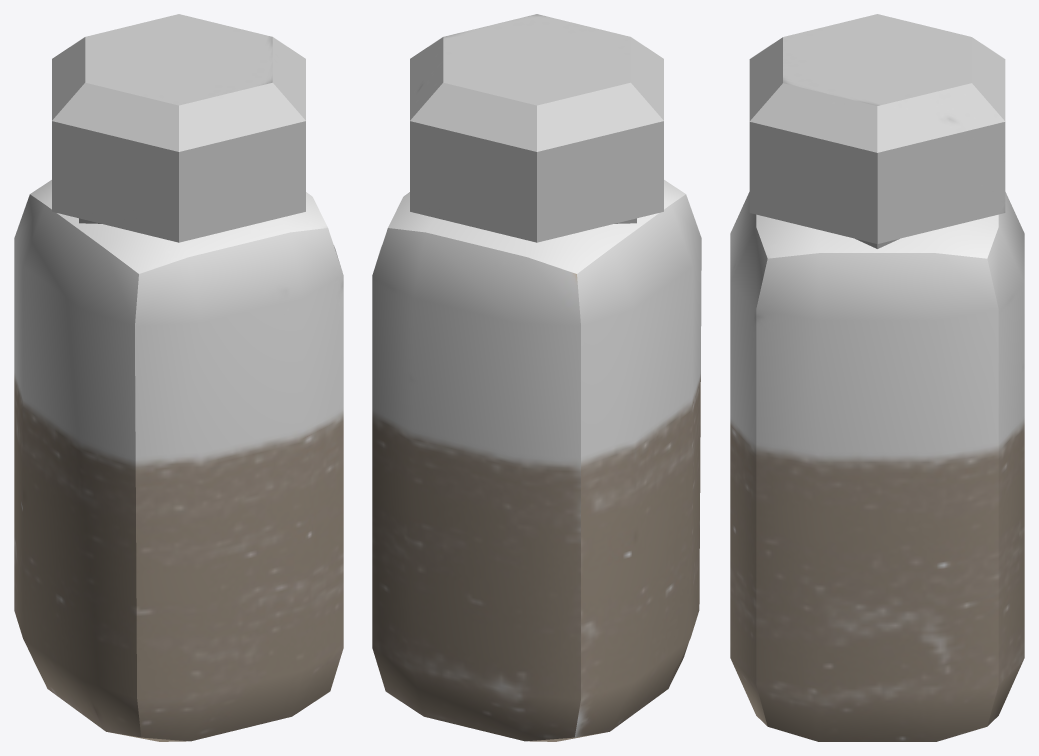
Rendered from jar.fbx.
The picture shows the model from 3 angles, left to right: view 1: azimuth 30°, elevation 25°; view 2: azimuth 150°, elevation 25°; view 3: azimuth 270°, elevation 25°; orthographic projection.
Visible parts, largest first — view 1: jar; view 2: jar; view 3: jar.
Boxes of the visible parts, x1,y1,x2,y2 form: jar: (14, 14, 343, 741); jar: (372, 14, 701, 741); jar: (730, 14, 1024, 741).
Size of the model in its own units: 0.5582 by 1.36 by 0.556.
